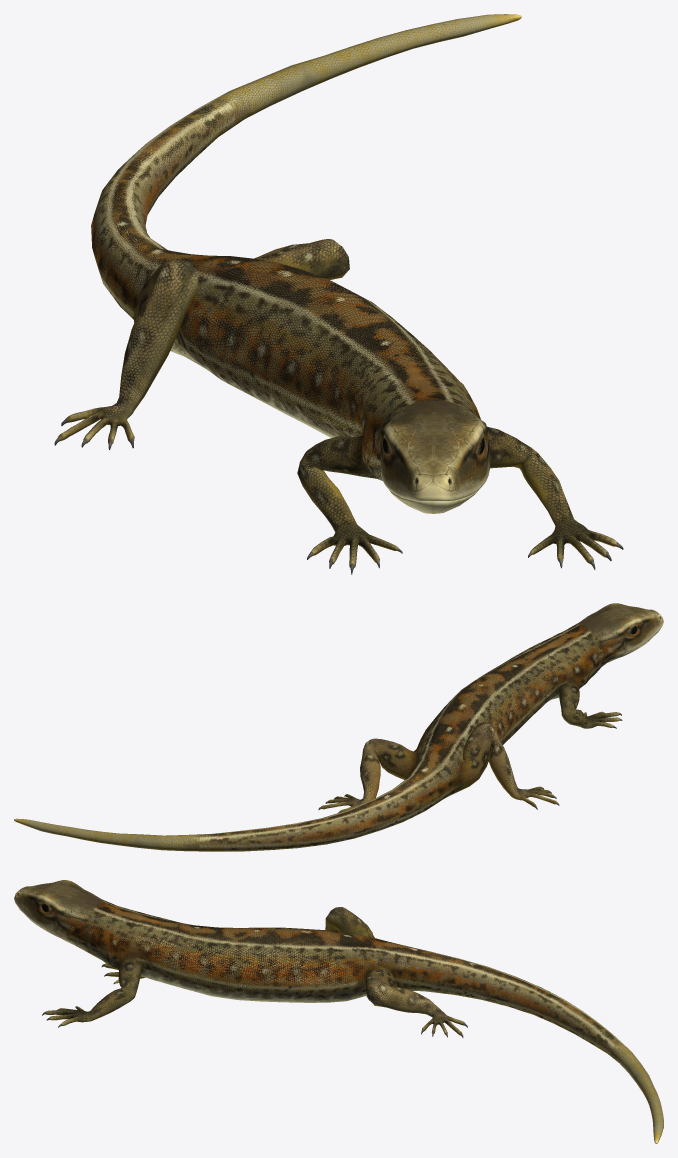
File: Running274.obj
The picture shows the model from 3 angles, top to bottom: view 1: azimuth 30°, elevation 25°; view 2: azimuth 150°, elevation 25°; view 3: azimuth 270°, elevation 25°; orthographic projection. The views are drawn at different scales.
Parts seen in each view (by area): view 1: Lizard; view 2: Lizard; view 3: Lizard.
Part boxes in pixels (left/top/right/bottom): Lizard: left=54, top=14, right=623, bottom=574; Lizard: left=14, top=603, right=663, bottom=851; Lizard: left=14, top=880, right=663, bottom=1143.
Size of the model in its own units: 55.93 by 12.04 by 76.29.
